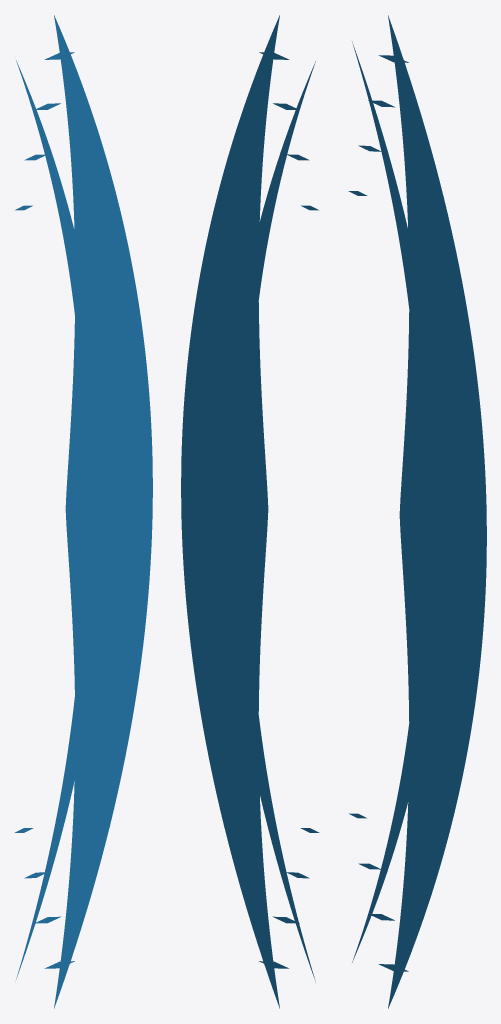
The model's file is SM_FrostMoonWave_V2.obj.
The picture shows the model from 3 angles, left to right: view 1: azimuth 30°, elevation 25°; view 2: azimuth 150°, elevation 25°; view 3: azimuth 330°, elevation 25°; orthographic projection.
Parts seen in each view (by area): view 1: SM_FrostMoonWave_V2; view 2: SM_FrostMoonWave_V2; view 3: SM_FrostMoonWave_V2.
Boxes of the visible parts, x1,y1,x2,y2 form: SM_FrostMoonWave_V2: [14, 15, 152, 1008]; SM_FrostMoonWave_V2: [181, 15, 319, 1008]; SM_FrostMoonWave_V2: [348, 15, 486, 1008].
Bounding box in the file's own units: 70 × 480 × 1.
